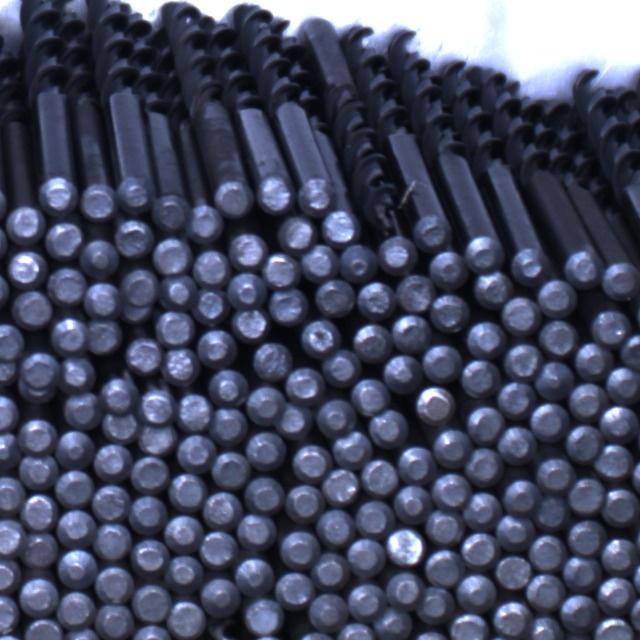tool: (17, 350, 58, 400), (120, 267, 160, 318), (246, 430, 286, 470), (384, 525, 424, 565), (280, 528, 320, 568), (199, 578, 240, 617), (308, 593, 348, 632), (198, 328, 237, 368), (415, 385, 455, 424), (57, 547, 96, 587), (167, 600, 206, 640), (284, 483, 324, 522), (369, 409, 409, 448), (56, 430, 95, 470), (538, 277, 578, 316), (331, 430, 371, 469), (5, 204, 44, 244), (252, 341, 292, 380), (317, 399, 357, 438), (302, 320, 342, 359), (422, 342, 461, 381), (600, 405, 639, 444), (461, 357, 500, 396), (378, 235, 417, 274), (116, 219, 155, 258), (323, 348, 362, 387), (20, 578, 58, 618), (316, 278, 356, 316), (132, 582, 172, 620), (13, 289, 53, 327), (383, 353, 423, 391), (293, 444, 333, 482), (393, 484, 431, 524), (560, 594, 600, 632), (536, 359, 574, 399), (236, 512, 276, 550), (267, 285, 307, 323), (245, 596, 285, 634), (434, 428, 472, 468), (320, 207, 360, 245), (494, 512, 534, 550), (353, 322, 392, 360), (357, 279, 395, 318), (346, 538, 385, 576), (397, 274, 436, 312), (502, 295, 540, 334), (164, 515, 202, 554), (203, 490, 241, 529), (208, 369, 247, 407), (529, 403, 567, 442), (591, 307, 630, 345), (431, 294, 469, 333), (65, 391, 104, 429), (129, 495, 167, 534), (456, 574, 495, 612), (285, 366, 324, 404), (430, 250, 468, 289), (603, 260, 640, 300), (564, 249, 601, 289), (564, 424, 602, 462), (424, 548, 462, 586), (350, 376, 388, 414), (48, 266, 86, 304), (94, 522, 132, 560), (124, 336, 162, 374), (418, 586, 456, 624), (7, 249, 45, 287), (46, 221, 84, 259), (498, 424, 536, 462), (323, 466, 361, 504), (235, 557, 273, 595), (467, 319, 505, 357), (230, 231, 268, 269), (41, 177, 79, 215), (81, 240, 119, 278), (216, 180, 254, 218), (95, 443, 132, 482), (275, 570, 314, 607), (391, 314, 428, 353), (132, 454, 171, 491), (212, 451, 251, 488), (58, 509, 95, 548), (246, 475, 285, 512), (246, 386, 283, 425), (177, 434, 214, 473), (317, 509, 356, 546), (525, 574, 564, 611), (278, 214, 317, 251), (398, 443, 435, 482), (465, 447, 502, 486), (465, 491, 502, 530), (460, 532, 499, 569), (152, 193, 189, 232), (188, 203, 225, 242), (539, 320, 579, 356), (468, 404, 504, 444), (57, 592, 95, 629), (96, 564, 133, 602), (262, 251, 300, 288), (347, 582, 384, 620), (603, 487, 640, 525), (493, 600, 531, 637), (19, 418, 57, 455), (340, 243, 377, 281), (168, 473, 205, 511), (433, 473, 471, 510), (85, 281, 122, 319), (575, 342, 613, 379), (200, 529, 237, 567), (303, 245, 341, 282), (81, 183, 118, 221), (311, 550, 348, 588), (599, 575, 636, 613), (275, 401, 313, 438), (20, 451, 58, 488), (92, 484, 131, 520), (156, 308, 195, 344), (568, 477, 605, 514), (154, 237, 192, 273), (56, 470, 94, 506), (176, 392, 212, 430), (52, 317, 88, 355), (568, 518, 606, 554), (354, 499, 392, 535), (496, 380, 534, 416), (562, 555, 600, 591), (427, 508, 465, 544), (605, 365, 640, 404), (593, 444, 632, 479), (361, 458, 398, 494), (59, 355, 96, 391), (568, 382, 605, 418), (131, 536, 168, 572), (100, 376, 137, 412), (211, 407, 247, 444), (165, 555, 202, 591), (94, 603, 132, 638), (140, 421, 178, 456), (371, 606, 410, 640), (386, 572, 420, 611), (536, 456, 575, 490), (530, 533, 566, 569), (192, 248, 228, 284), (602, 536, 638, 572), (21, 493, 57, 529), (506, 343, 542, 379), (162, 347, 199, 382), (20, 532, 56, 567), (494, 555, 531, 589), (227, 272, 264, 306), (102, 410, 140, 443), (258, 176, 293, 211), (87, 320, 123, 354), (504, 479, 540, 513), (139, 388, 175, 422), (165, 274, 200, 308), (230, 310, 266, 343), (119, 179, 152, 213), (448, 612, 487, 640), (536, 496, 568, 528), (196, 291, 228, 322), (515, 251, 545, 284), (593, 616, 633, 640), (0, 475, 24, 515), (0, 322, 25, 360), (470, 242, 502, 271), (525, 615, 562, 640), (0, 518, 24, 556), (480, 276, 510, 306), (23, 617, 62, 640), (304, 186, 336, 210), (0, 593, 18, 633), (0, 556, 20, 592), (336, 622, 374, 640), (0, 394, 18, 432), (622, 332, 640, 369), (421, 221, 447, 246), (132, 624, 172, 640), (62, 628, 101, 640), (410, 630, 450, 640), (0, 268, 9, 310), (630, 595, 640, 632), (295, 631, 335, 640), (0, 361, 12, 388), (632, 458, 640, 496), (0, 222, 6, 261), (485, 634, 515, 640), (0, 634, 24, 640)
tool_b: (212, 620, 240, 640)
